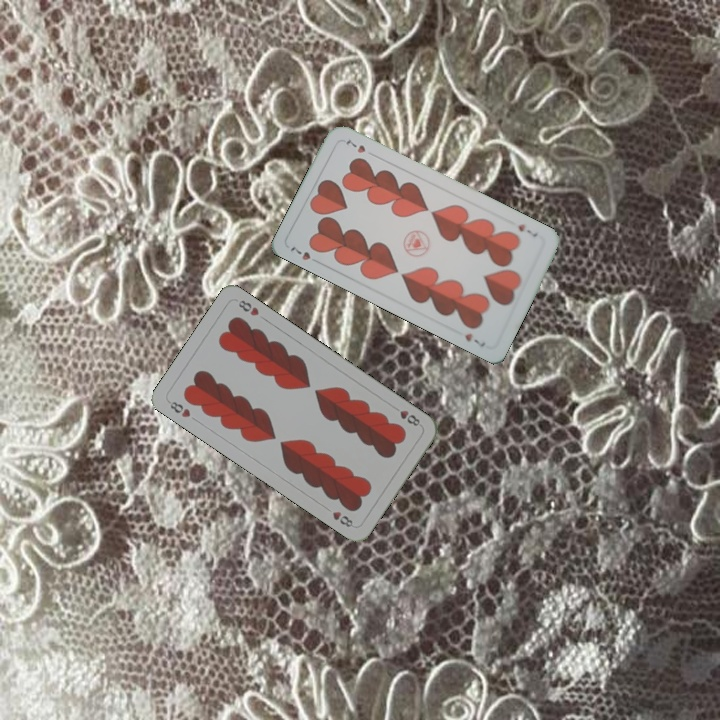H7: (286, 243, 323, 266), (514, 220, 540, 239)
H8: (164, 396, 193, 420), (396, 406, 423, 429)
